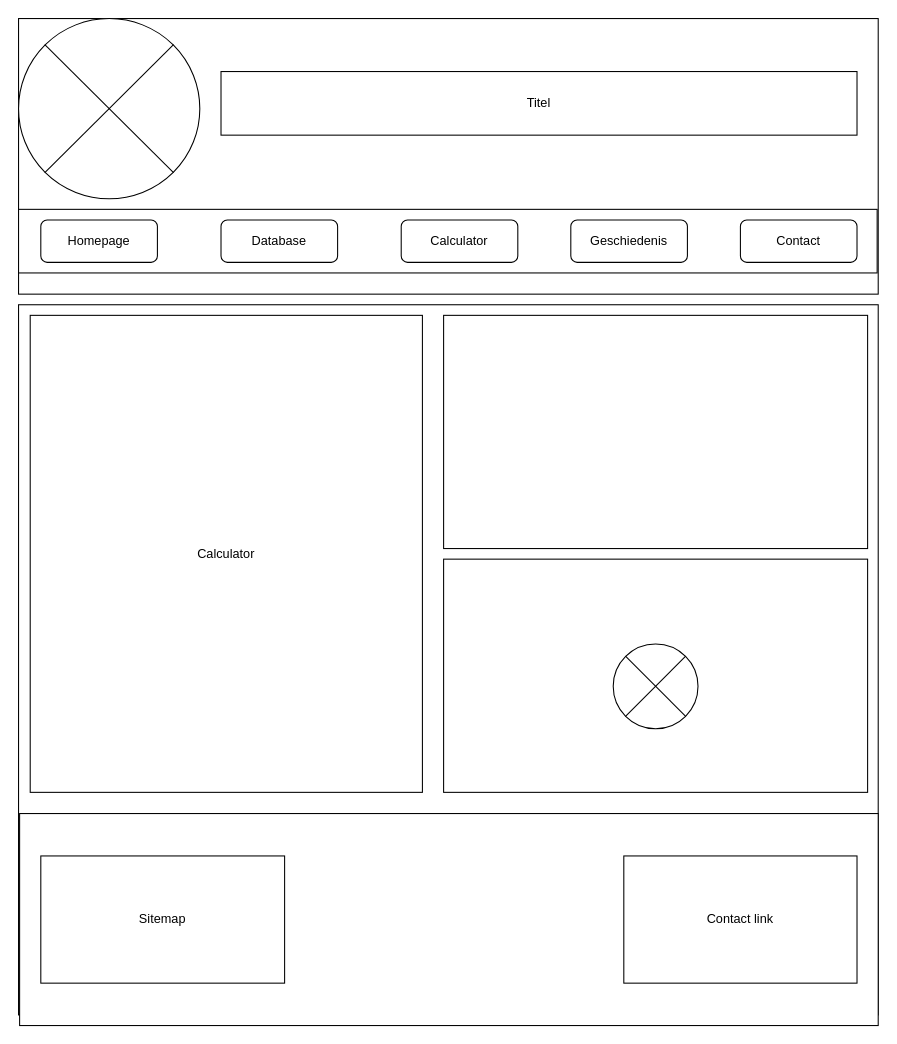
Image size: 897x1044. Some labels were removed from this diagram. Here are the shapes that lost their labels. From the top down, the box of each, then its label:
(17, 17, 878, 294): Header
(443, 314, 868, 549): Calculator pop up event
(19, 812, 878, 1026): Footer
